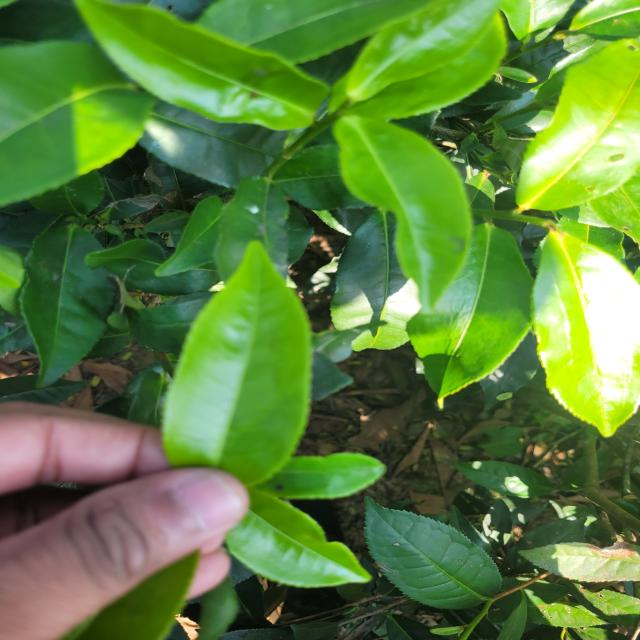Catagory A 1-2 days: (150, 228, 334, 492)
